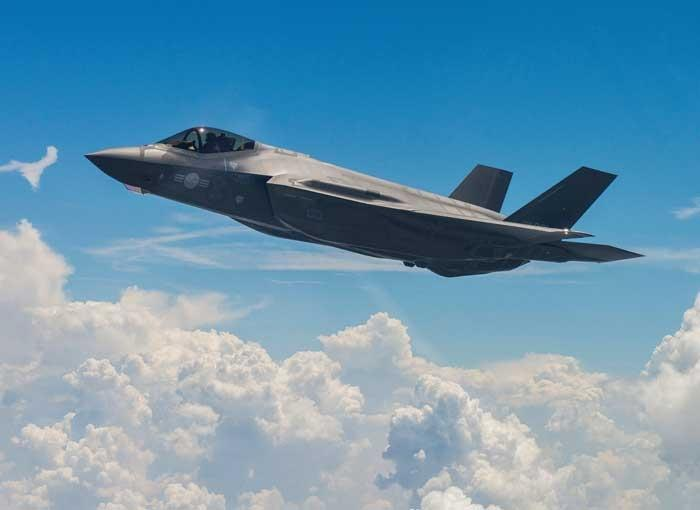F-35 Lightning: (62, 58, 662, 319)
